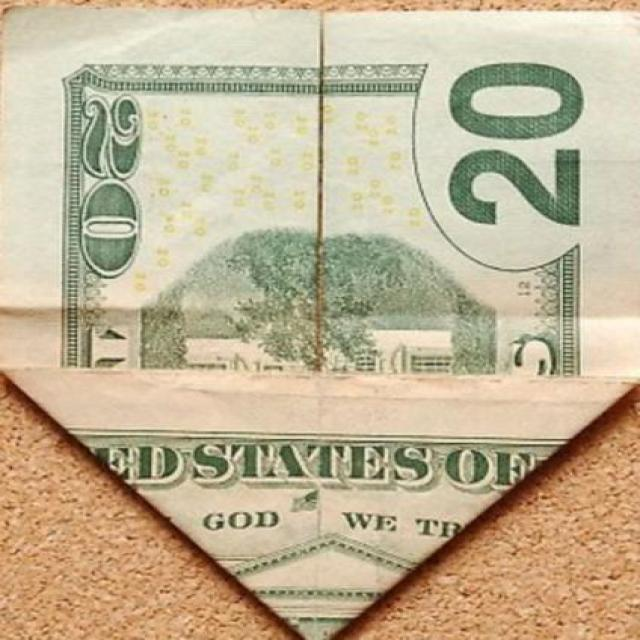20-Back: (0, 4, 626, 640)
